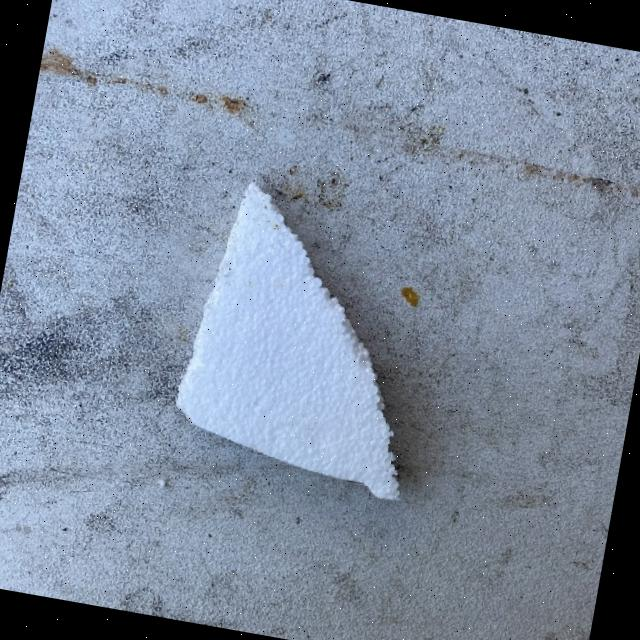styrofoam: (162, 173, 450, 502)
